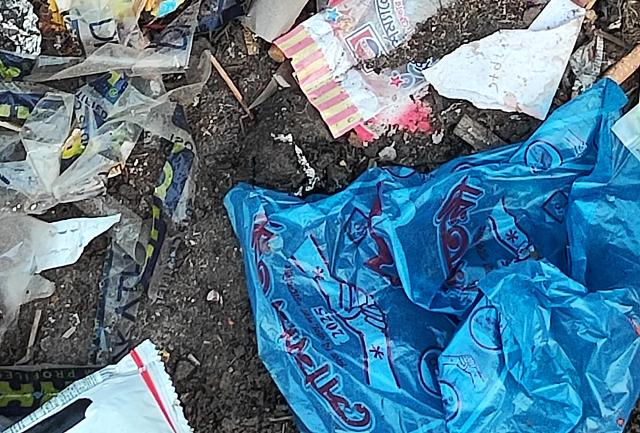polythene: (246, 81, 623, 433)
